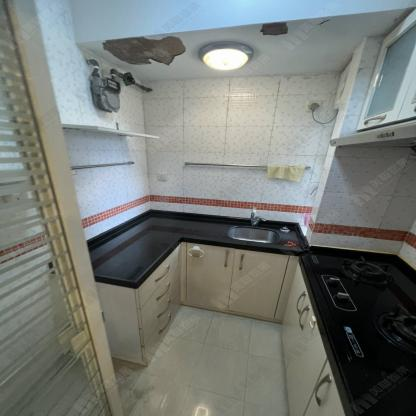Cupboard: (140, 240, 348, 415)
Exhaust Hood: (330, 120, 416, 148)
Faucet: (242, 202, 264, 226)
Sink: (229, 227, 279, 242)
Stove: (305, 249, 415, 415)
